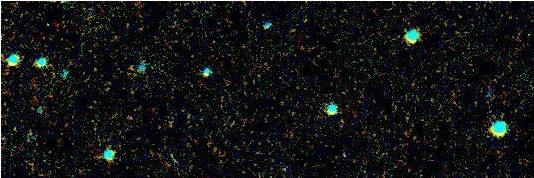star: (190, 60, 220, 90)
